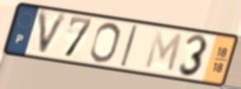3: (177, 34, 210, 79)
7: (63, 15, 95, 60)
I: (119, 24, 139, 69)
M: (143, 28, 185, 75)
O: (88, 21, 122, 64)
V: (36, 8, 71, 58)
